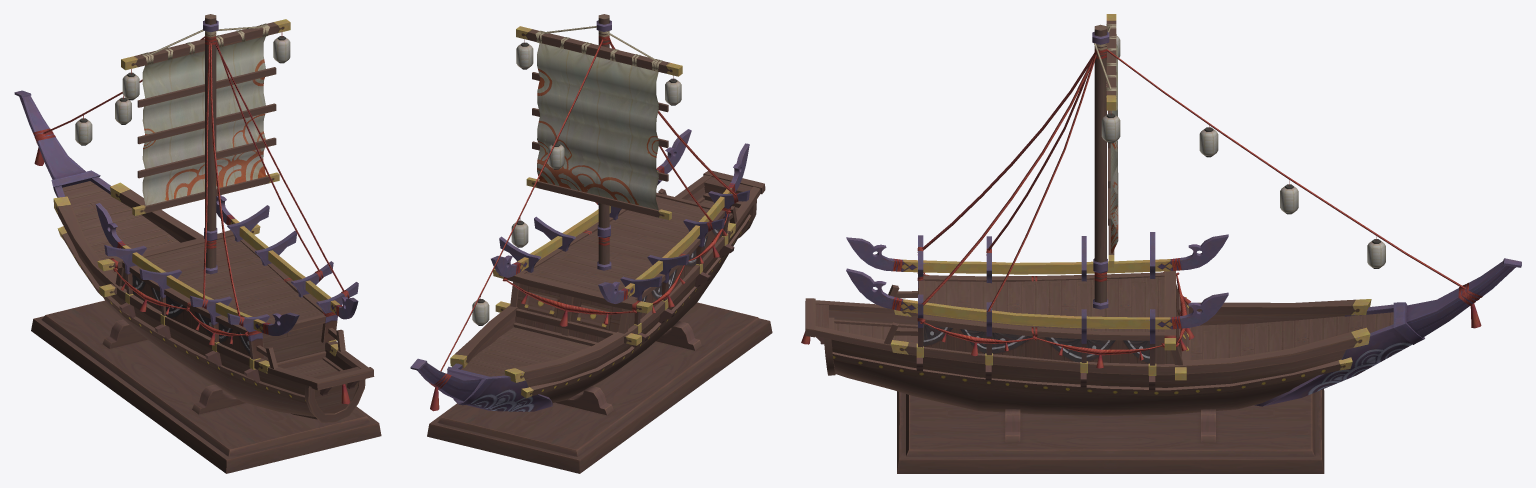
The model's file is Homeworld_Exterior_Dq_Thing_Prop_Shipsoul_01_Lod0.fbx.
3 renders of one model, left to right at view 1: azimuth 30°, elevation 25°; view 2: azimuth 150°, elevation 25°; view 3: azimuth 270°, elevation 25°, orthographic. The views are drawn at different scales.
Parts seen in each view (by area): view 1: Homeworld_Exterior_Dq_Thing_Prop_Shipsoul_01_Lod0; view 2: Homeworld_Exterior_Dq_Thing_Prop_Shipsoul_01_Lod0; view 3: Homeworld_Exterior_Dq_Thing_Prop_Shipsoul_01_Lod0.
Part boxes in pixels (<box>): Homeworld_Exterior_Dq_Thing_Prop_Shipsoul_01_Lod0: <box>14,14,381,473</box>; Homeworld_Exterior_Dq_Thing_Prop_Shipsoul_01_Lod0: <box>410,14,772,473</box>; Homeworld_Exterior_Dq_Thing_Prop_Shipsoul_01_Lod0: <box>801,14,1521,473</box>.
Size of the model in its own units: 0.2935 by 0.629 by 1.02.
3 materials, 3 textured.
